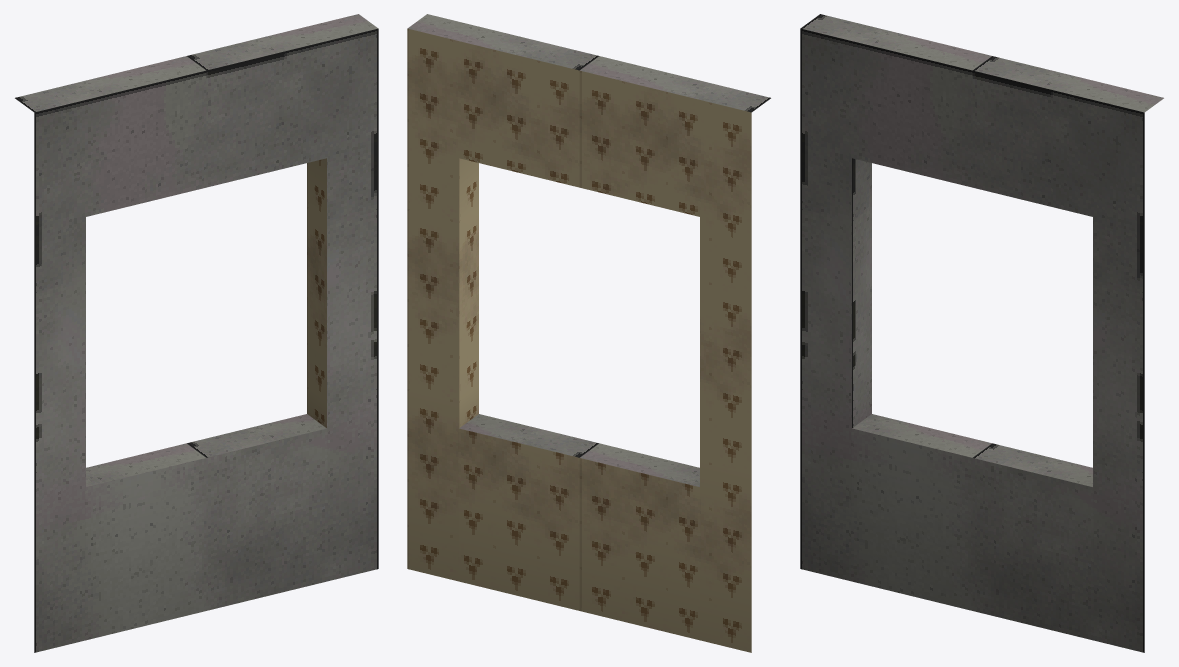
The model's file is wall_window_panel.glb.
3 renders of one model, left to right at view 1: azimuth 30°, elevation 25°; view 2: azimuth 150°, elevation 25°; view 3: azimuth 330°, elevation 25°, orthographic.
Parts seen in each view (by area): view 1: wall_window_panel; view 2: wall_window_panel; view 3: wall_window_panel.
Part boxes in pixels (bbox=[...]): wall_window_panel: bbox=[15, 14, 378, 652]; wall_window_panel: bbox=[407, 14, 770, 652]; wall_window_panel: bbox=[800, 14, 1163, 652].
Size of the model in its own units: 2 by 3 by 0.2.
Materials: 4 (4 with a texture image).
